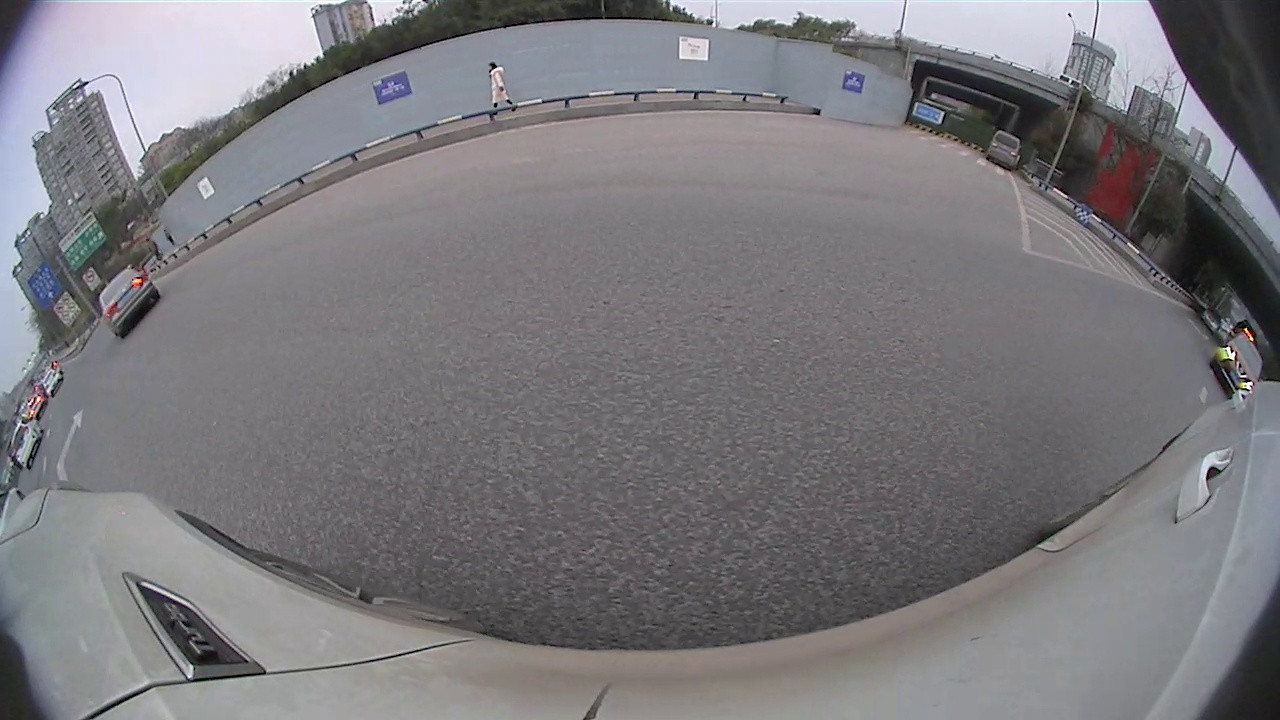car: (97, 265, 162, 341), (1209, 330, 1265, 398), (8, 416, 44, 472), (986, 128, 1024, 172), (40, 365, 65, 398), (1199, 305, 1224, 334)
person: (489, 61, 501, 107)
